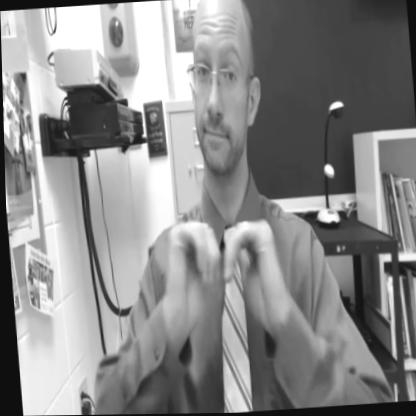HowAreYou: (93, 0, 366, 415)
